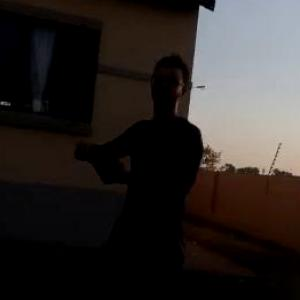follow: (68, 51, 213, 299)
